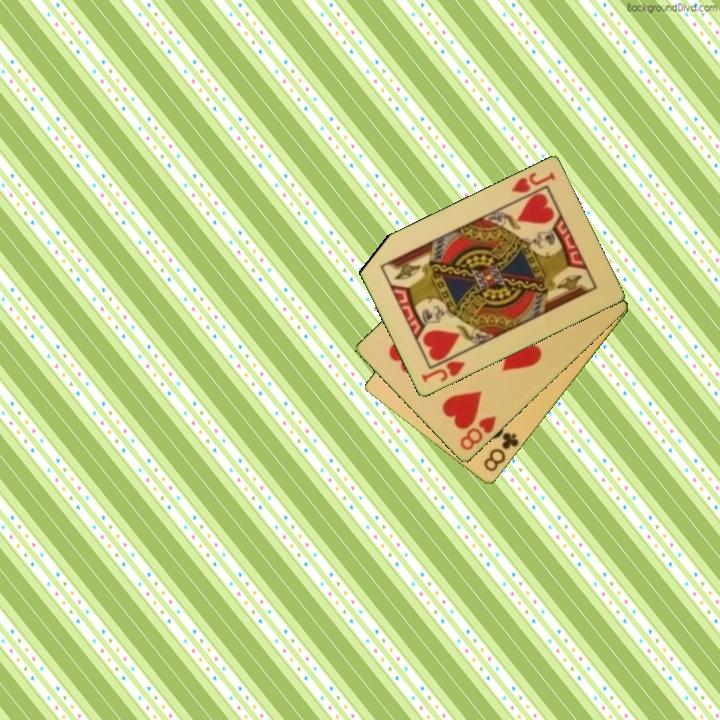8c: (480, 429, 522, 475)
8h: (456, 413, 499, 453)
Jh: (417, 349, 469, 386), (508, 169, 558, 196)
